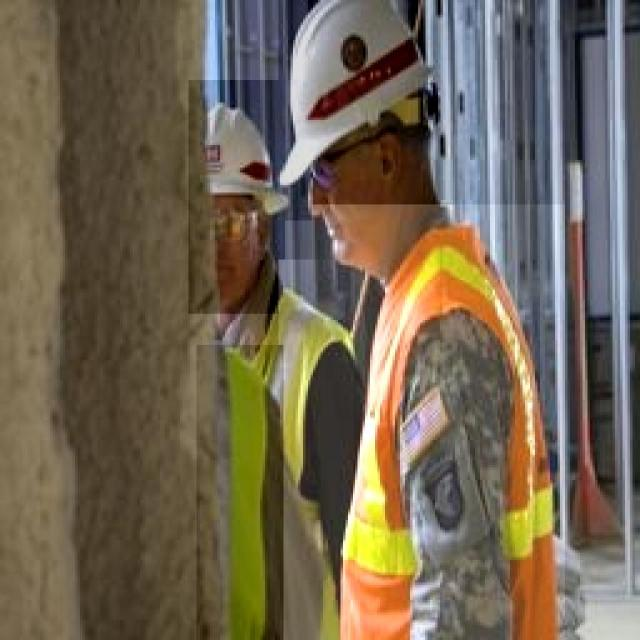Helmet: (278, 0, 453, 220), (189, 80, 285, 314)
Safety Vest: (312, 204, 565, 640), (278, 259, 353, 640), (196, 345, 284, 640)
